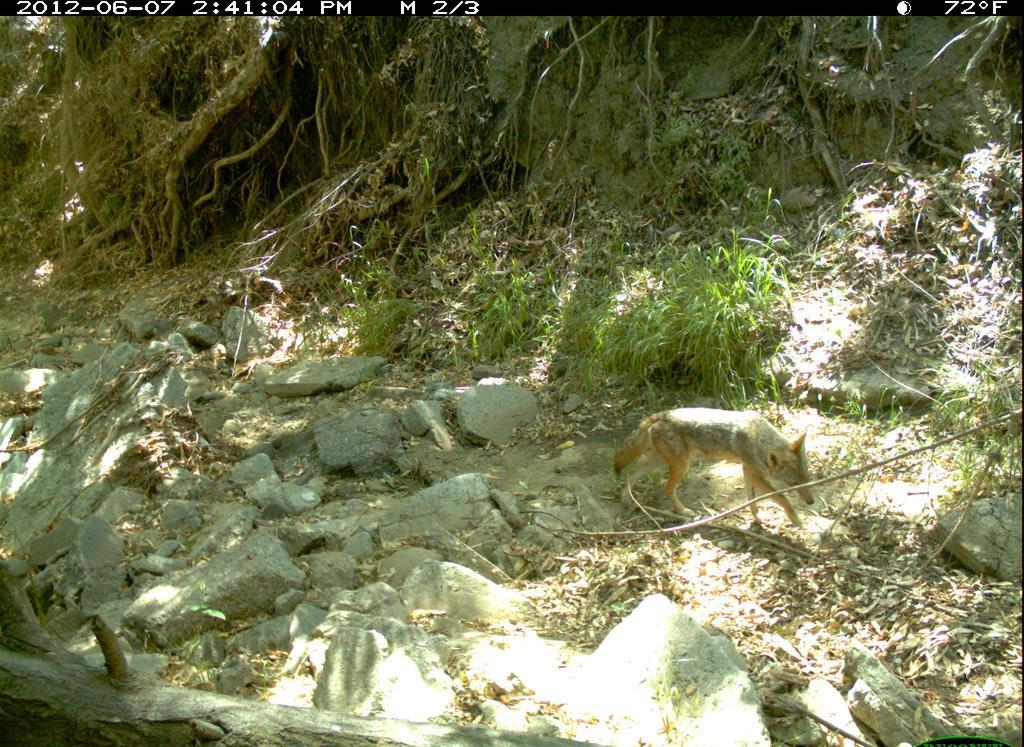coyote: (610, 403, 822, 536)
